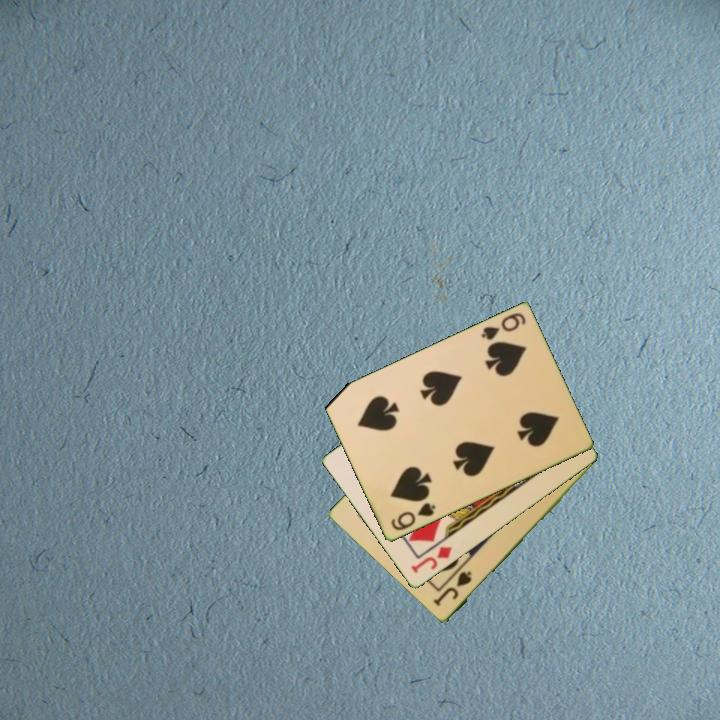6s: (387, 499, 438, 534), (477, 309, 529, 343)
Jd: (407, 543, 455, 577)
Js: (431, 568, 474, 609)
